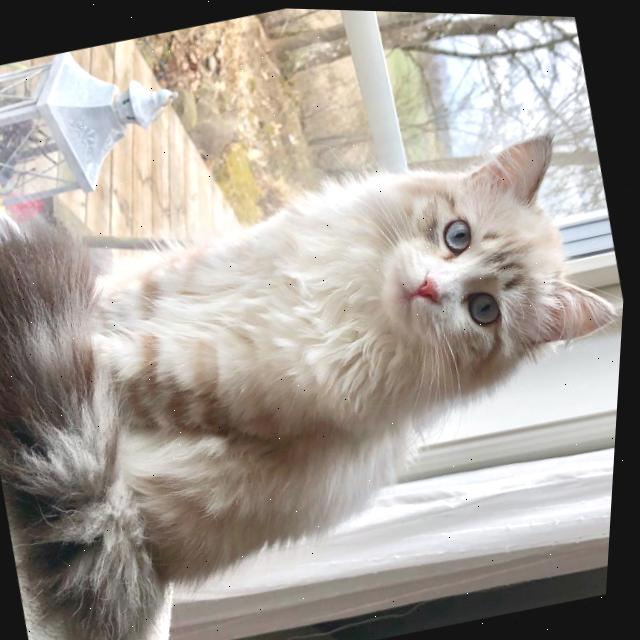Neva Masquerade: (0, 85, 636, 640)
